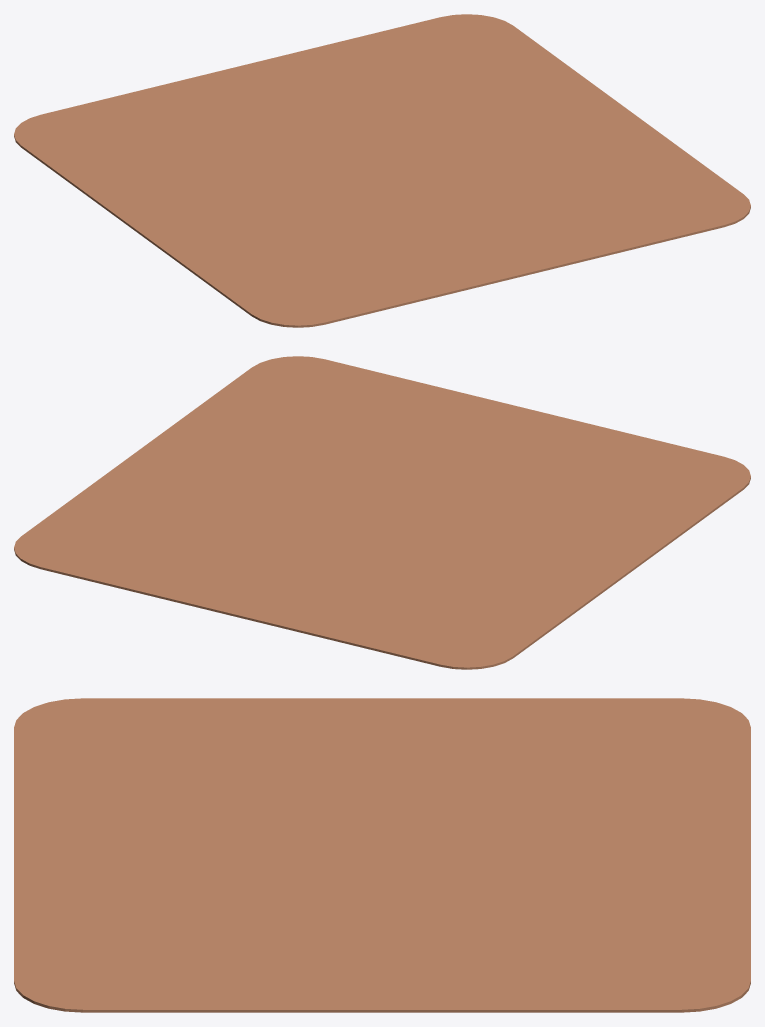
3 views of the same model, one above another, from view 1: azimuth 30°, elevation 25°; view 2: azimuth 150°, elevation 25°; view 3: azimuth 270°, elevation 25° (orthographic). The views are drawn at different scales.
Visible parts, largest first — view 1: COM-02 Floor Surface; view 2: COM-02 Floor Surface; view 3: COM-02 Floor Surface.
Part boxes in pixels (x1=…): COM-02 Floor Surface: x1=14, y1=14, x2=750, y2=327; COM-02 Floor Surface: x1=14, y1=356, x2=750, y2=669; COM-02 Floor Surface: x1=14, y1=698, x2=750, y2=1012.
Size of the model in its own units: 1.92 by 0.008 by 1.92.
1 material, 1 textured.
